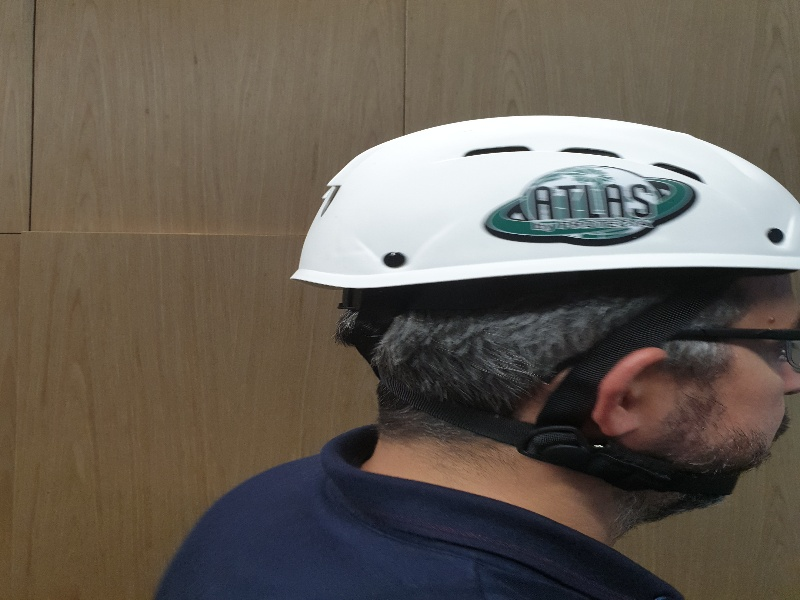Baret: (291, 114, 796, 282)
